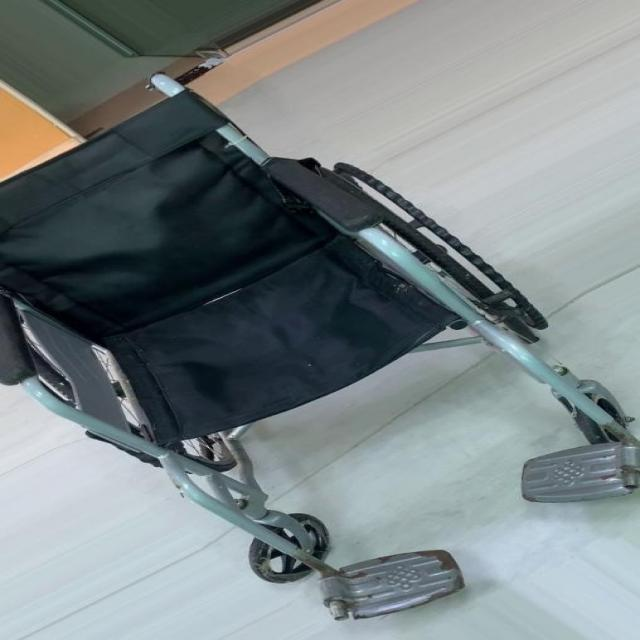wheelchair: (4, 57, 640, 640)
